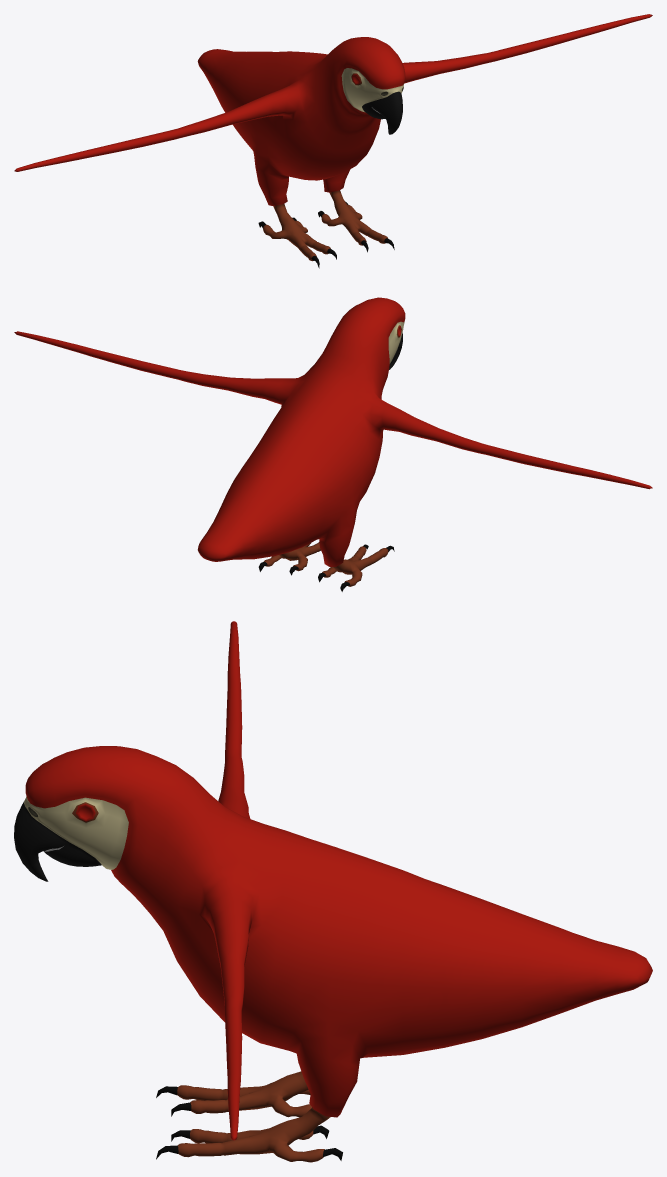
Rendered from ara_macaw_triangulated.obj.
3 renders of one model, top to bottom at view 1: azimuth 30°, elevation 25°; view 2: azimuth 150°, elevation 25°; view 3: azimuth 270°, elevation 25°, orthographic. The views are drawn at different scales.
Size of the model in its own units: 0.8521 by 0.2903 by 0.4435.
